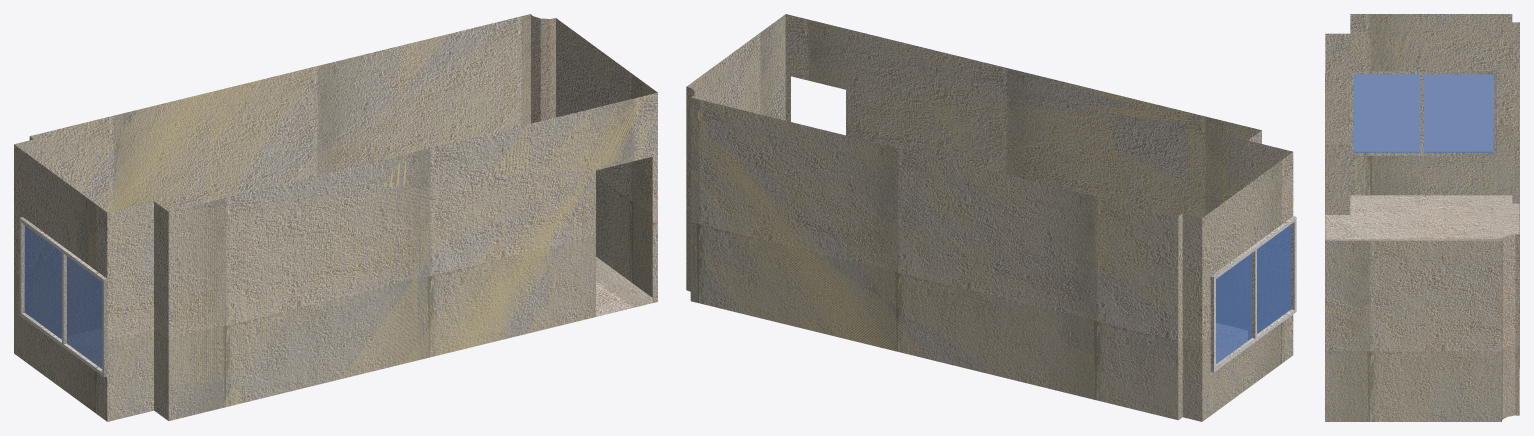
Rendered from LAB040.obj.
The picture shows the model from 3 angles, left to right: view 1: azimuth 30°, elevation 25°; view 2: azimuth 150°, elevation 25°; view 3: azimuth 270°, elevation 25°; orthographic projection. The views are drawn at different scales.
Visible parts, largest first — view 1: Mesh6 LAB040 Model, Mesh1 ventana2_1 LAB040 Model; view 2: Mesh6 LAB040 Model, Mesh1 ventana2_1 LAB040 Model; view 3: Mesh6 LAB040 Model, Mesh1 ventana2_1 LAB040 Model.
Boxes of the visible parts, x1=… form: Mesh6 LAB040 Model: x1=14, y1=14, x2=657, y2=421; Mesh1 ventana2_1 LAB040 Model: x1=19, y1=217, x2=107, y2=377; Mesh6 LAB040 Model: x1=686, y1=14, x2=1293, y2=421; Mesh1 ventana2_1 LAB040 Model: x1=1210, y1=216, x2=1296, y2=372; Mesh6 LAB040 Model: x1=1325, y1=14, x2=1519, y2=421; Mesh1 ventana2_1 LAB040 Model: x1=1350, y1=71, x2=1496, y2=155.
Size of the model in its own units: 8.09 by 3 by 2.92.
Materials: 7 (2 with a texture image).
